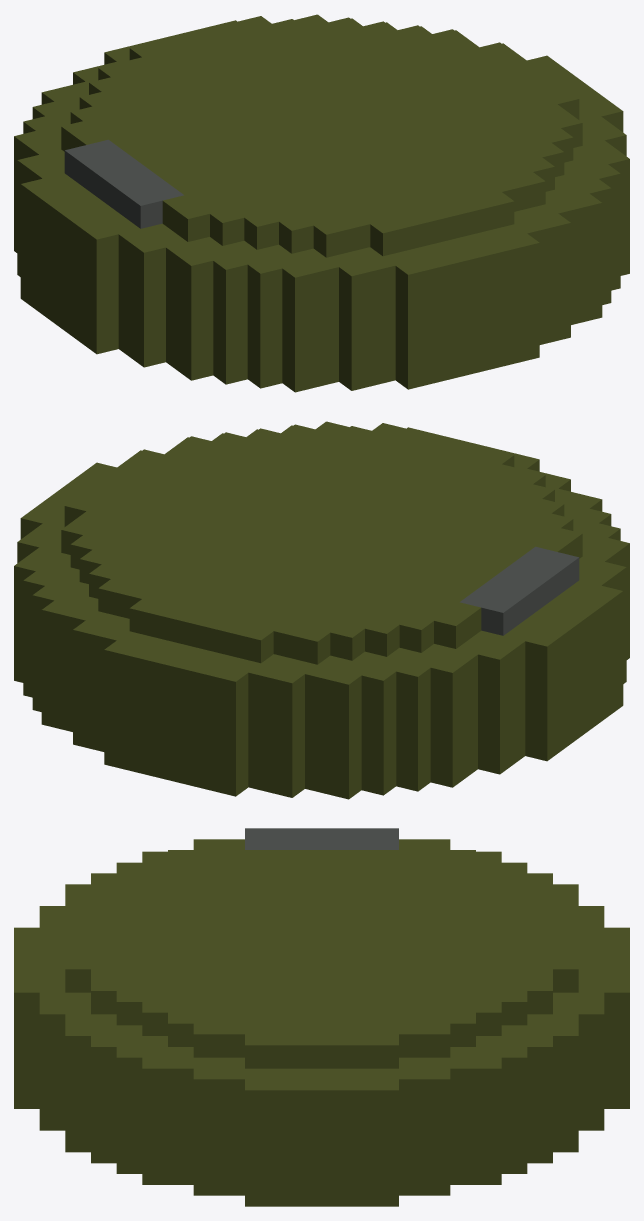
File: apc_cupola.glb
3 views of the same model, one above another, from view 1: azimuth 30°, elevation 25°; view 2: azimuth 150°, elevation 25°; view 3: azimuth 270°, elevation 25° (orthographic).
Visible parts, largest first — view 1: body:compound; view 2: body:compound; view 3: body:compound.
Part boxes in pixels (x1=…): body:compound: x1=14, y1=14, x2=629, y2=392; body:compound: x1=14, y1=421, x2=629, y2=799; body:compound: x1=14, y1=828, x2=629, y2=1206.
Size of the model in its own units: 0.75 by 0.1875 by 0.75.
